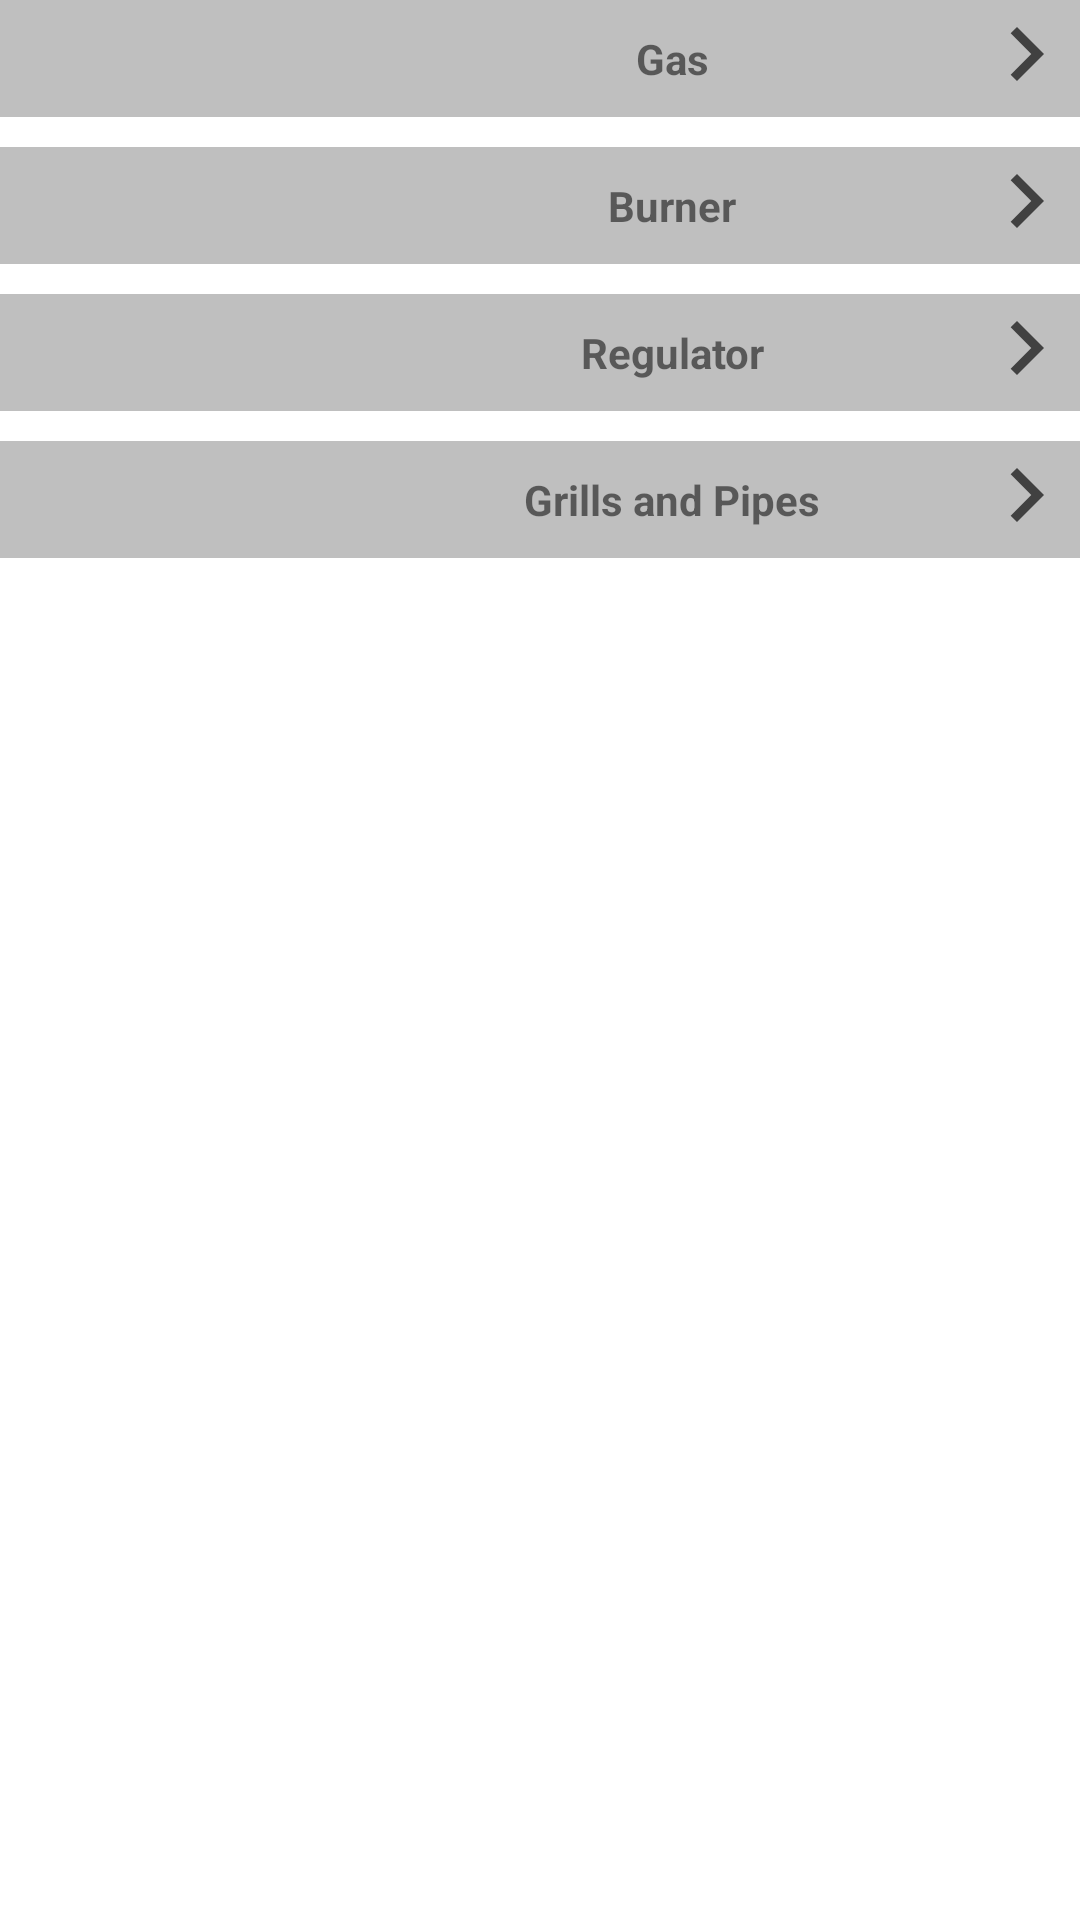

Where to tap for icons on this 1080w x 1920h app screen, as point (x, y):
keyboard arrow right: point (1027, 54), point (1027, 201), point (1027, 348), point (1027, 495)
